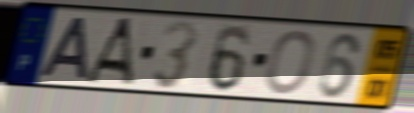3: (150, 18, 204, 92)
6: (316, 30, 363, 101), (208, 22, 253, 94)
A: (83, 15, 136, 89), (37, 15, 90, 82)
O: (263, 28, 318, 96)
